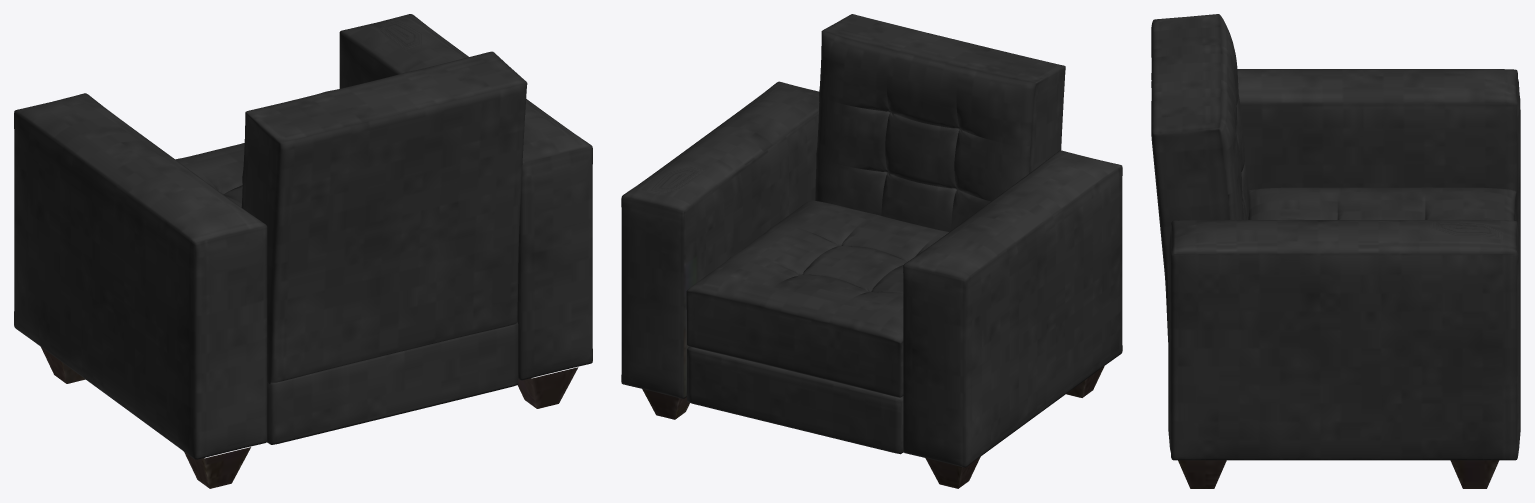
File: Sofa34.glb
3 renders of one model, left to right at view 1: azimuth 30°, elevation 25°; view 2: azimuth 150°, elevation 25°; view 3: azimuth 270°, elevation 25°, orthographic. The views are drawn at different scales.
Parts seen in each view (by area): view 1: Sofa34_model; view 2: Sofa34_model; view 3: Sofa34_model.
Part boxes in pixels (box(x1,y1,x2,y2)): Sofa34_model: box(14, 14, 592, 488); Sofa34_model: box(621, 14, 1122, 488); Sofa34_model: box(1151, 14, 1520, 488).
Bounding box in the file's own units: 1.99 × 1.67 × 1.66.
1 material, 1 textured.
